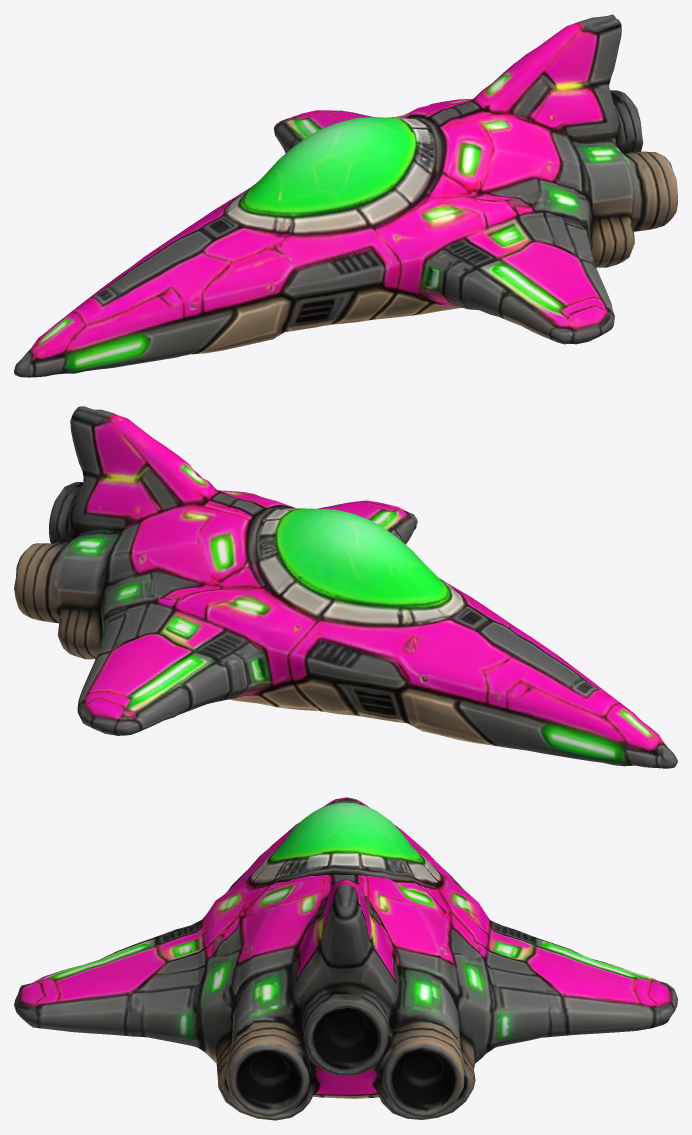
File: nave.obj
The picture shows the model from 3 angles, top to bottom: view 1: azimuth 30°, elevation 25°; view 2: azimuth 150°, elevation 25°; view 3: azimuth 270°, elevation 25°; orthographic projection. The views are drawn at different scales.
Visible parts, largest first — view 1: e75c93d927d6d44dd3568c83f9c18:Mesh; view 2: e75c93d927d6d44dd3568c83f9c18:Mesh; view 3: e75c93d927d6d44dd3568c83f9c18:Mesh.
Boxes of the visible parts, box(x1,y1,x2,y2) form: e75c93d927d6d44dd3568c83f9c18:Mesh: box(14, 14, 677, 377); e75c93d927d6d44dd3568c83f9c18:Mesh: box(14, 406, 677, 768); e75c93d927d6d44dd3568c83f9c18:Mesh: box(14, 797, 677, 1120).
Size of the model in its own units: 1.14 by 0.3973 by 0.946.
Materials: 1 (1 with a texture image).
